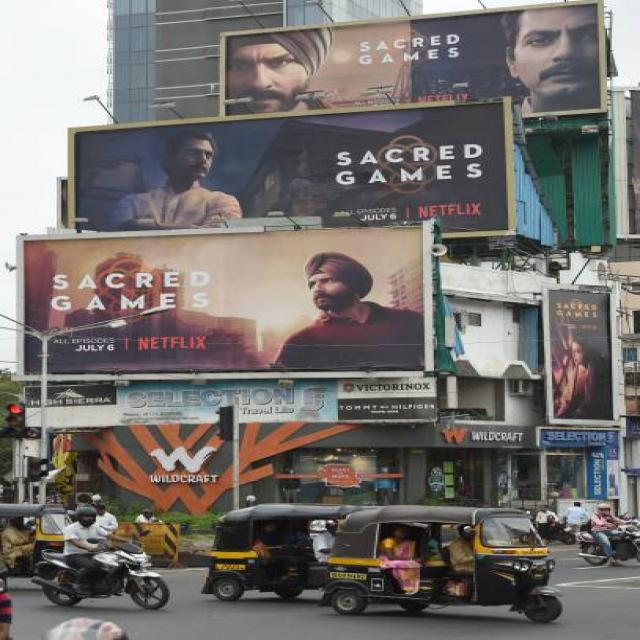Werbetafel frei: (16, 237, 427, 376), (70, 121, 512, 235), (222, 12, 600, 113), (540, 284, 618, 428)
